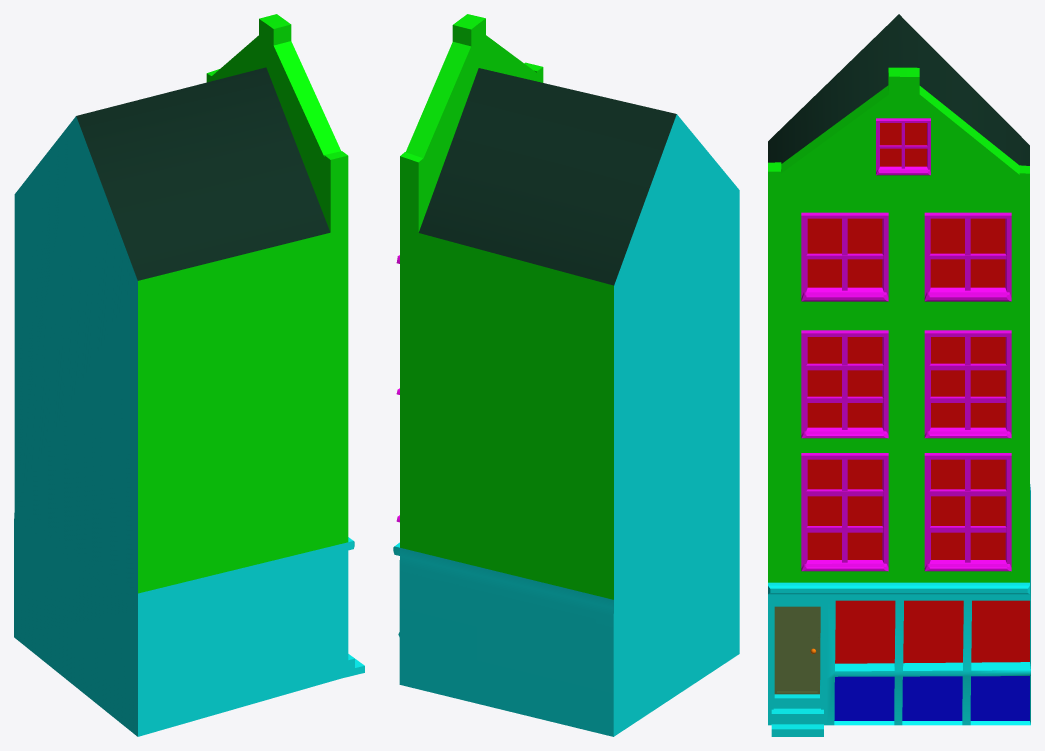
File: huis6_model.obj
3 views of the same model, side by side, from view 1: azimuth 30°, elevation 25°; view 2: azimuth 150°, elevation 25°; view 3: azimuth 270°, elevation 25° (orthographic). The views are drawn at different scales.
Visible parts, largest first — view 1: pSphere2; view 2: pSphere2; view 3: pSphere2.
Boxes of the visible parts, box(x1,y1,x2,y2) form: pSphere2: box(14, 14, 364, 736); pSphere2: box(393, 14, 739, 736); pSphere2: box(768, 14, 1030, 736).
Size of the model in its own units: 294 by 761 by 276.
